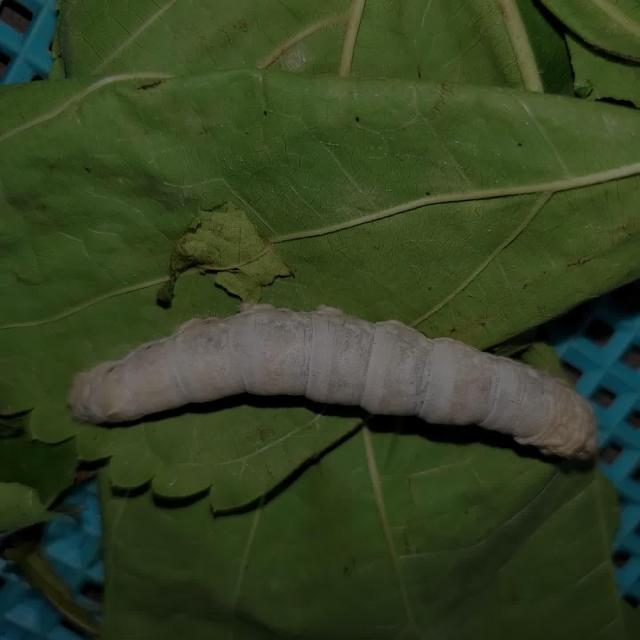Grasserie: (51, 283, 606, 477)
